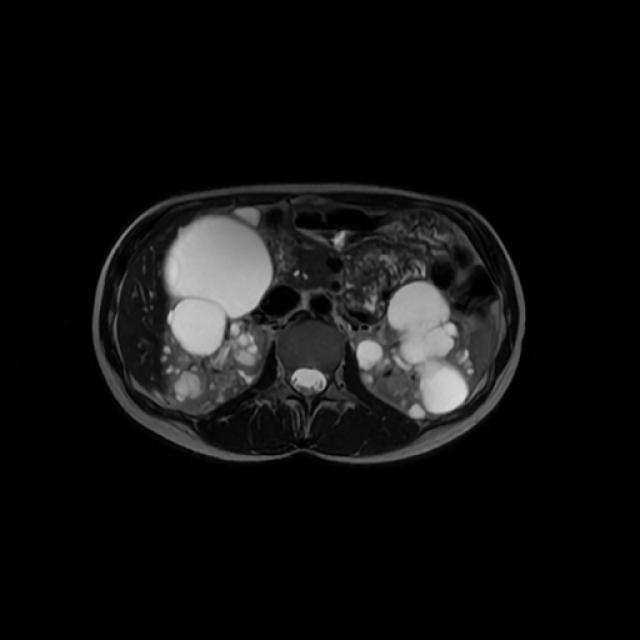sag: (158, 211, 277, 411)
sol: (352, 277, 478, 424)
